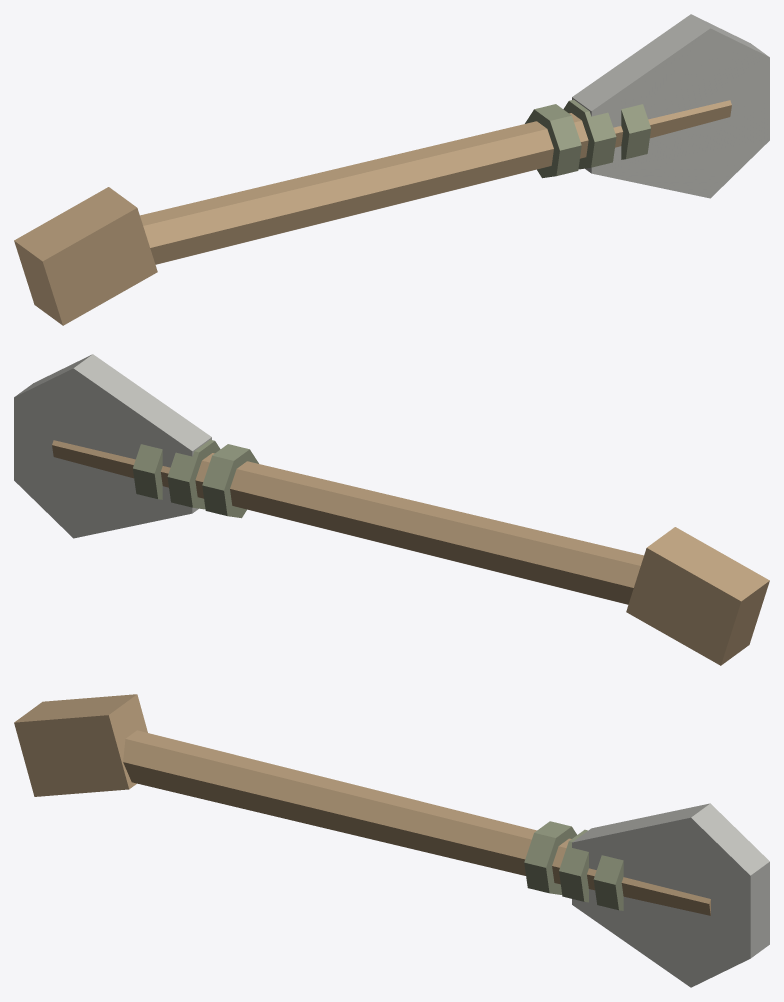
Rendered from wipe-day-survival-island-stone-hatchet-66b988b9__27480.glb.
The picture shows the model from 3 angles, top to bottom: view 1: azimuth 30°, elevation 25°; view 2: azimuth 150°, elevation 25°; view 3: azimuth 330°, elevation 25°; orthographic projection.
Visible parts, largest first — view 1: stone-hatchet; view 2: stone-hatchet; view 3: stone-hatchet.
Boxes of the visible parts, x1=… form: stone-hatchet: x1=14, y1=14, x2=769, y2=325; stone-hatchet: x1=14, y1=354, x2=769, y2=665; stone-hatchet: x1=14, y1=694, x2=769, y2=987.
Size of the model in its own units: 0.7381 by 0.164 by 0.0624.
